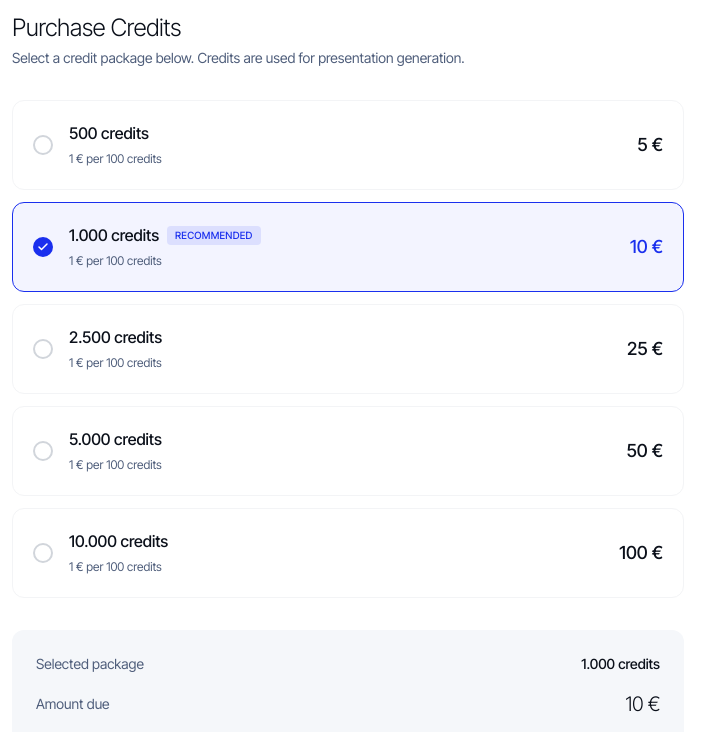
Test case: TopUpPage › Package selection › should update amount due when selecting different package
Click the button "5.000 credits 1 € per 100 credits 50 €" at (90, 439), box [12,406,684,496]
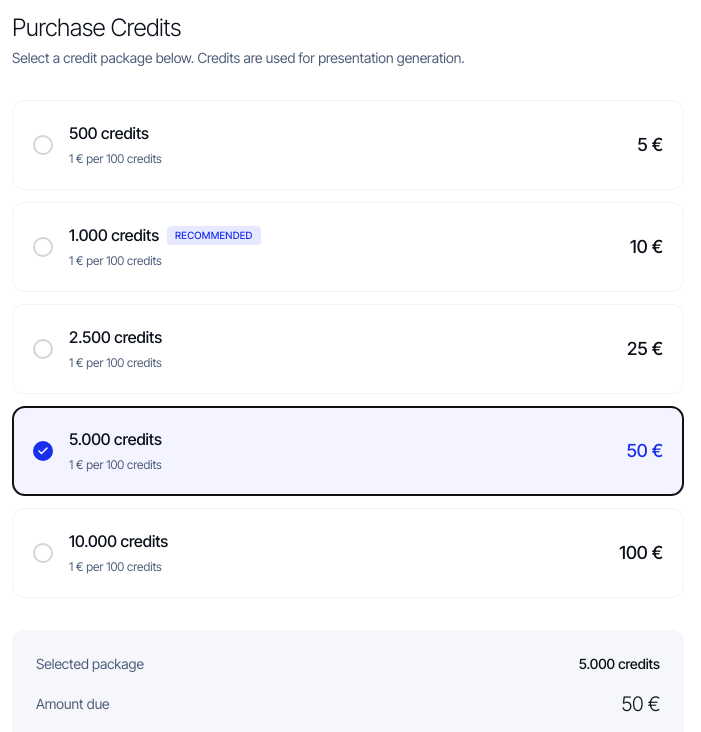
Result: the text "50 €" in the row of "Amount due" is shown at [621,692,660,716]
